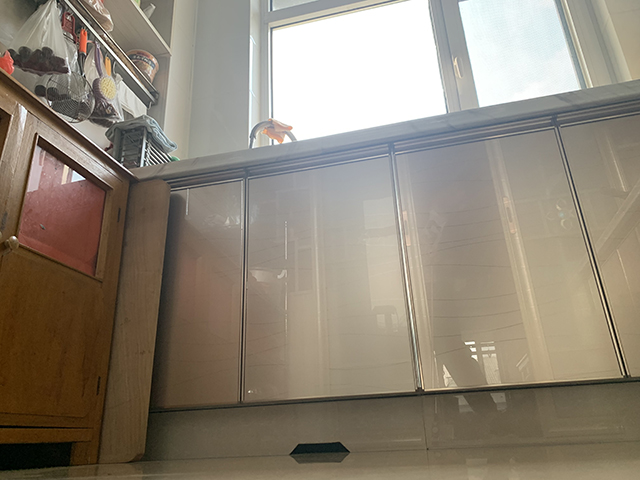cabinet: (125, 78, 640, 459), (1, 65, 139, 468)
